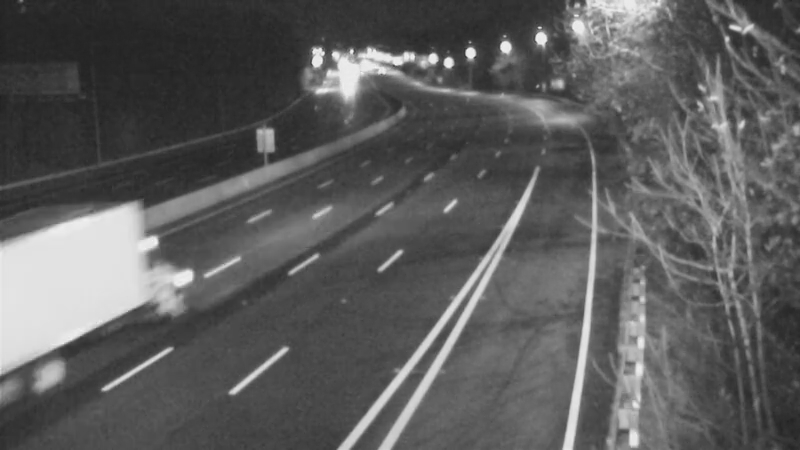vehicle: (34, 252, 114, 332), (321, 51, 371, 101)
